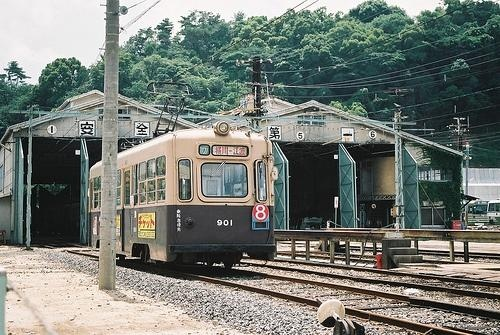train: (86, 121, 281, 277)
